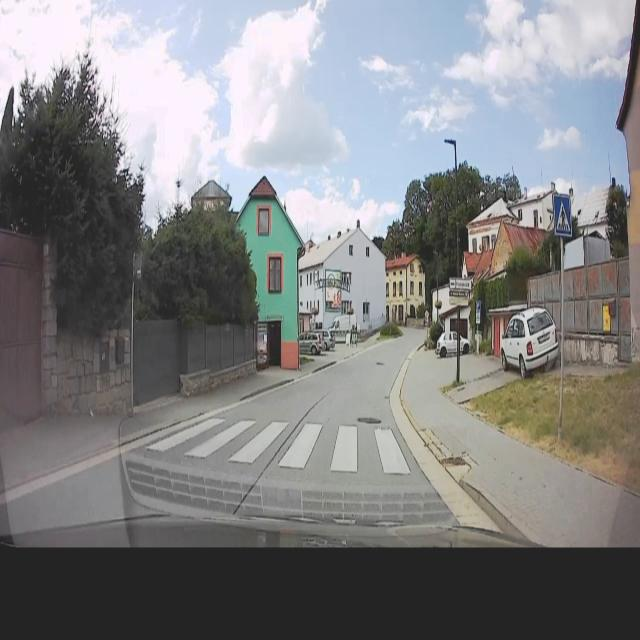Priority road: (424, 308, 430, 317)
